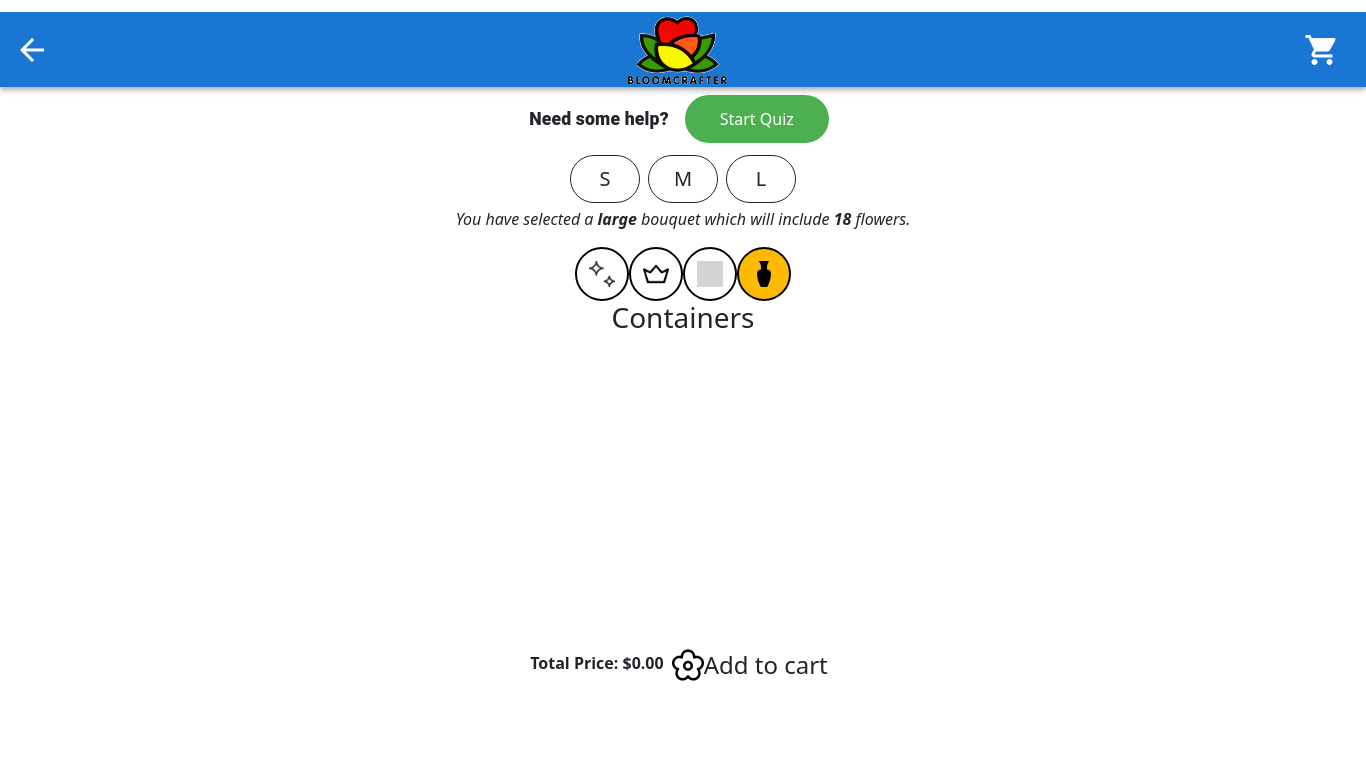
BouquetBuilder › selecting the 'foliage' category shows foliage flowers
Click the button with test id "cart-icon" at (1322, 50), box [1302,30,1342,70]
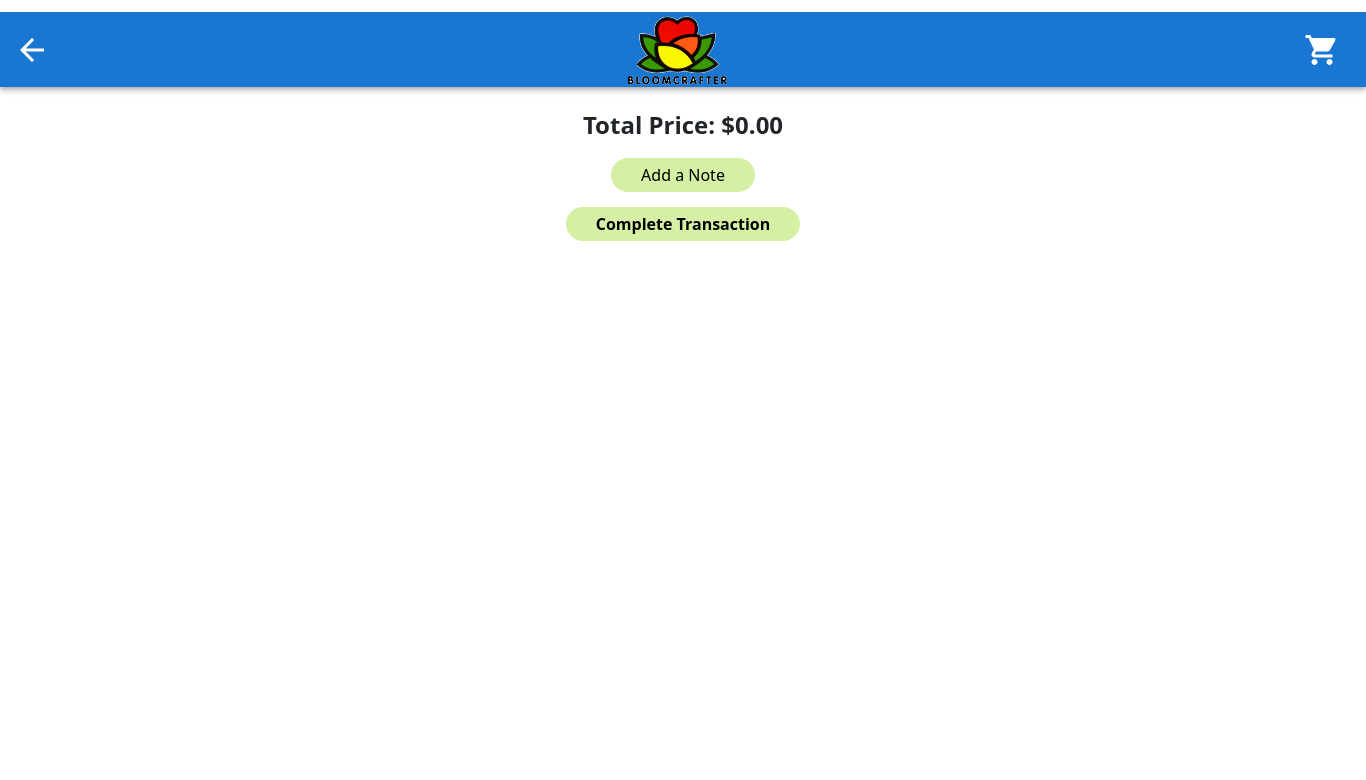
Click the button "Add a Note" at (683, 175), box [611,158,755,192]
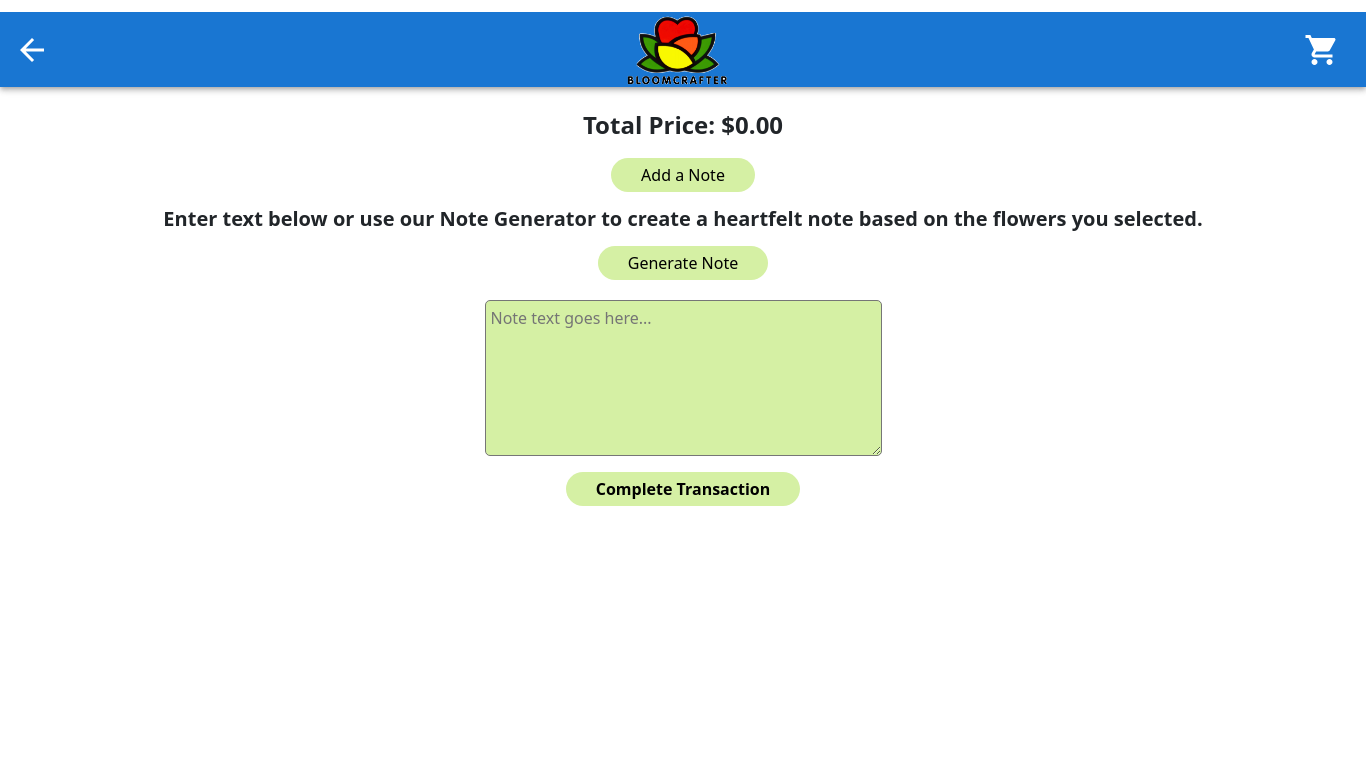
Click the button with test id "dropdowntest" at (683, 263), box [598,246,768,280]
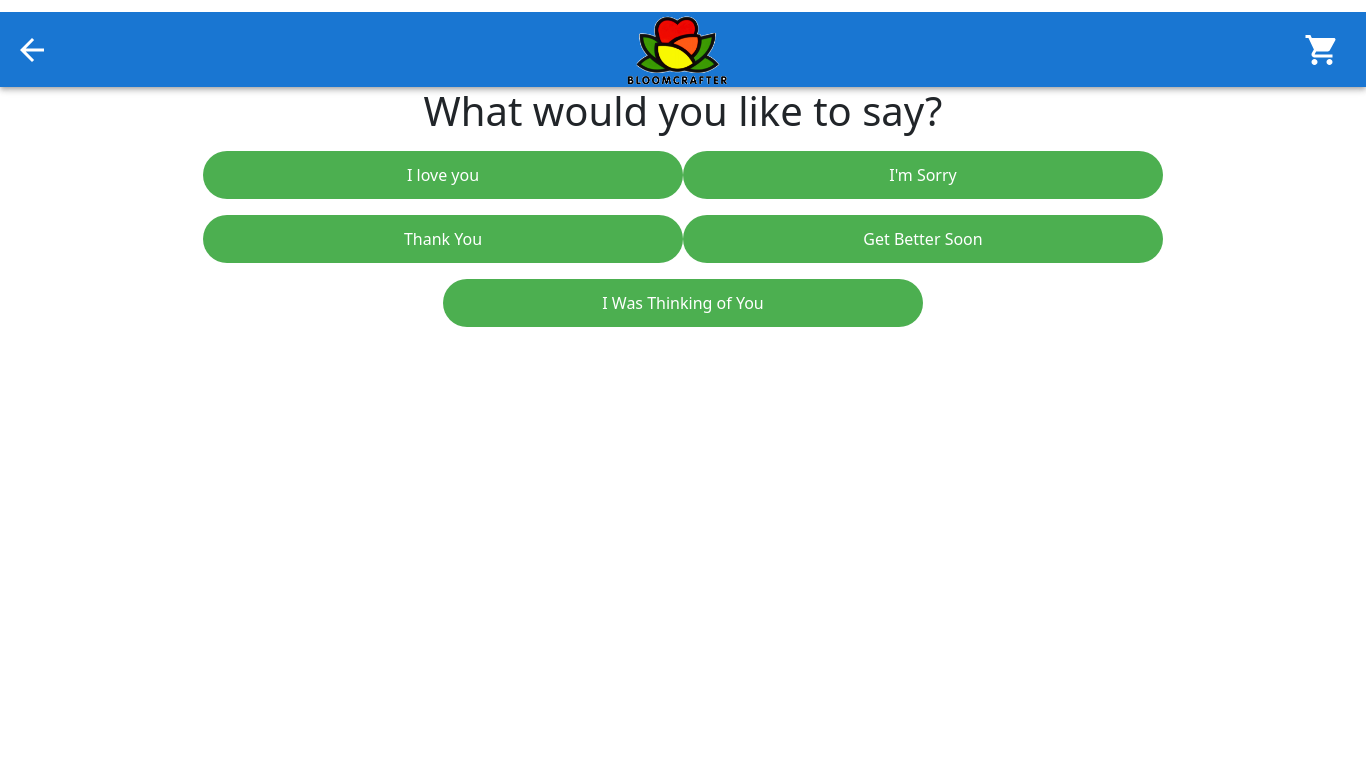
Expected: the button "I love you" is shown, [203,151,683,199]
